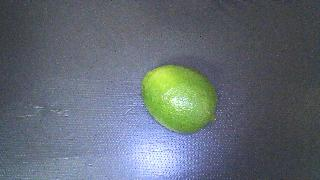EXPORTACION: (141, 65, 217, 133)
